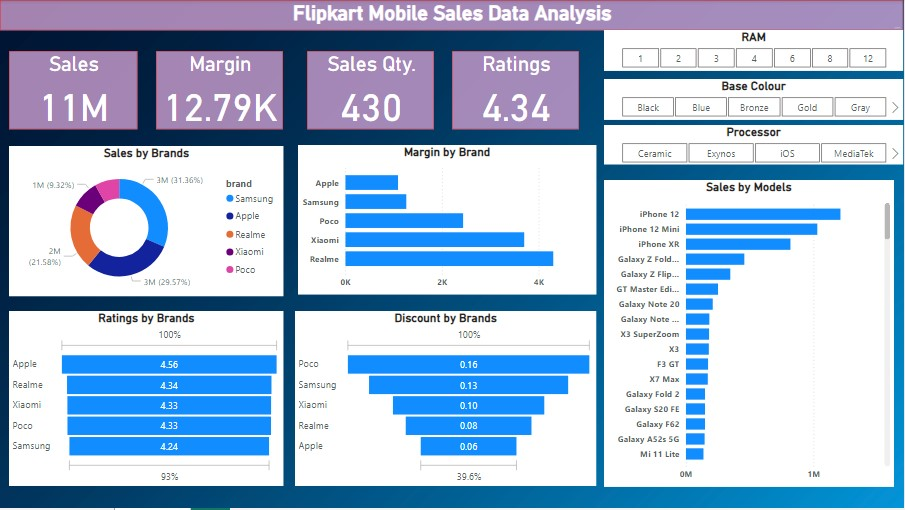

This screenshot's page, from the dashboard's own definition file:
{"tool":"powerbi","page":{"name":"Page 1","canvas":[1280,720],"ordinal":0},"visuals":[{"type":"card","title":"Sales","fields":{"Values":["Sum(Flipkart Mobile Data - 2.sales_price)"]},"box":[12.1,72.7,181.8,110.6],"z":0},{"type":"textbox","title":"Flipkart Mobile Sales Data Analysis","box":[0,0,1280,43.4],"z":1000},{"type":"card","title":"Margin","fields":{"Values":["Sum(Flipkart Mobile Data - 2.Margin)"]},"box":[221.2,72.7,180.3,110.6],"z":2000},{"type":"card","title":"Sales Qty.","fields":{"Values":["CountNonNull(Flipkart Mobile Data - 2.brand)"]},"box":[434.7,72.7,180.3,110.6],"z":3000},{"type":"card","title":"Ratings ","fields":{"Values":["Avg(Flipkart Mobile Data - 2.ratings)"]},"box":[640.8,72.7,180.3,110.6],"z":4000},{"type":"donutChart","title":"Sales by Brands","fields":{"Category":["Flipkart Mobile Data - 2.brand"],"Y":["Sum(Flipkart Mobile Data - 2.sales_price)"]},"box":[12.4,206.4,389.4,212.6],"z":5000},{"type":"barChart","title":"Sales by Models","fields":{"Y":["Sum(Flipkart Mobile Data - 2.sales_price)"],"Category":["Flipkart Mobile Data - 2.model"]},"box":[855.9,254.5,410.5,434.7],"z":6000},{"type":"barChart","title":"Margin by Brand","fields":{"Category":["Flipkart Mobile Data - 2.brand"],"Y":["Sum(Flipkart Mobile Data - 2.Margin)"]},"box":[422.6,206,422.6,212.1],"z":7000},{"type":"funnel","title":"Ratings by Brands","fields":{"Category":["Flipkart Mobile Data - 2.brand"],"Y":["Avg(Flipkart Mobile Data - 2.ratings)"]},"box":[12.1,440.8,389.3,248.4],"z":8000},{"type":"funnel","title":"Discount by Brands","fields":{"Category":["Flipkart Mobile Data - 2.brand"],"Y":["Avg(Flipkart Mobile Data - 2.discount_percent)"]},"box":[418.1,440.8,427.2,248.4],"z":9000},{"type":"slicer","title":"RAM","fields":{"Values":["Flipkart Mobile Data - 2.RAM"]},"box":[855.9,42.4,424.1,57.6],"z":10000},{"type":"slicer","title":"Base Colour","fields":{"Values":["Flipkart Mobile Data - 2.base_color"]},"box":[855.9,112.1,424.1,57.6],"z":11000},{"type":"slicer","title":"Processor","fields":{"Values":["Flipkart Mobile Data - 2.processor"]},"box":[855.9,177.2,424.1,56],"z":12000}]}

Visuals, with their boxes in screenshot pixels (x1, y1, x2, y2), scaled from the page's 1280x720 canvas onto the 905x510 screenshot:
"Sales" card: x1=9, y1=51, x2=137, y2=130
"Flipkart Mobile Sales Data Analysis" textbox: x1=0, y1=0, x2=904, y2=31
"Margin" card: x1=156, y1=51, x2=284, y2=130
"Sales Qty." card: x1=307, y1=51, x2=435, y2=130
"Ratings " card: x1=453, y1=51, x2=581, y2=130
"Sales by Brands" donutChart: x1=9, y1=146, x2=284, y2=297
"Sales by Models" barChart: x1=605, y1=180, x2=895, y2=488
"Margin by Brand" barChart: x1=299, y1=146, x2=598, y2=296
"Ratings by Brands" funnel: x1=9, y1=312, x2=284, y2=488
"Discount by Brands" funnel: x1=296, y1=312, x2=598, y2=488
"RAM" slicer: x1=605, y1=30, x2=904, y2=71
"Base Colour" slicer: x1=605, y1=79, x2=904, y2=120
"Processor" slicer: x1=605, y1=126, x2=904, y2=165
